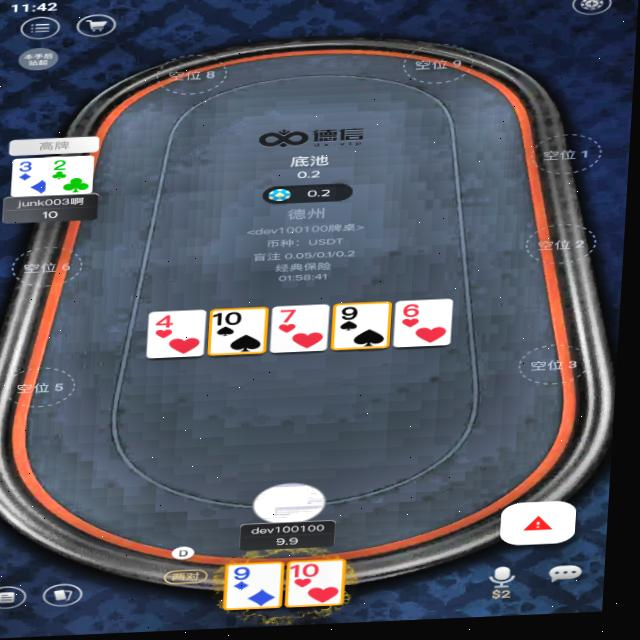10h: (296, 566, 328, 583)
10s: (215, 312, 249, 330)
4h: (157, 315, 183, 332)
6h: (403, 307, 428, 323)
7h: (279, 310, 307, 328)
9f: (236, 567, 263, 584)
9s: (341, 308, 369, 326)
